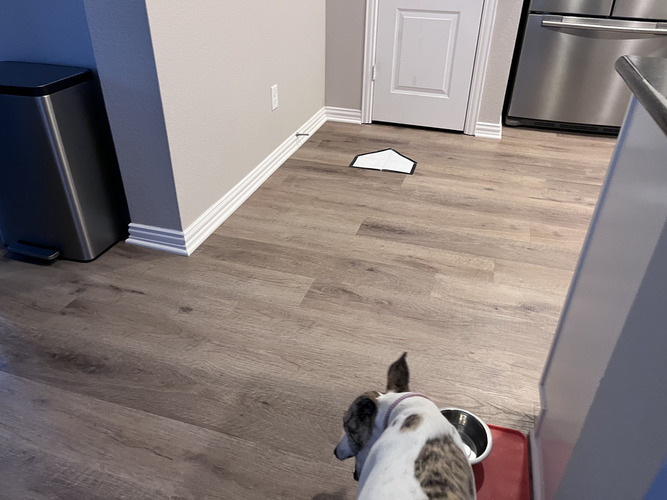homeplate: (348, 147, 417, 175)
